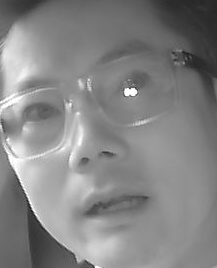eye: (20, 101, 62, 124)
glass: (86, 49, 179, 127), (1, 83, 76, 159)
mouth: (73, 184, 153, 227)
